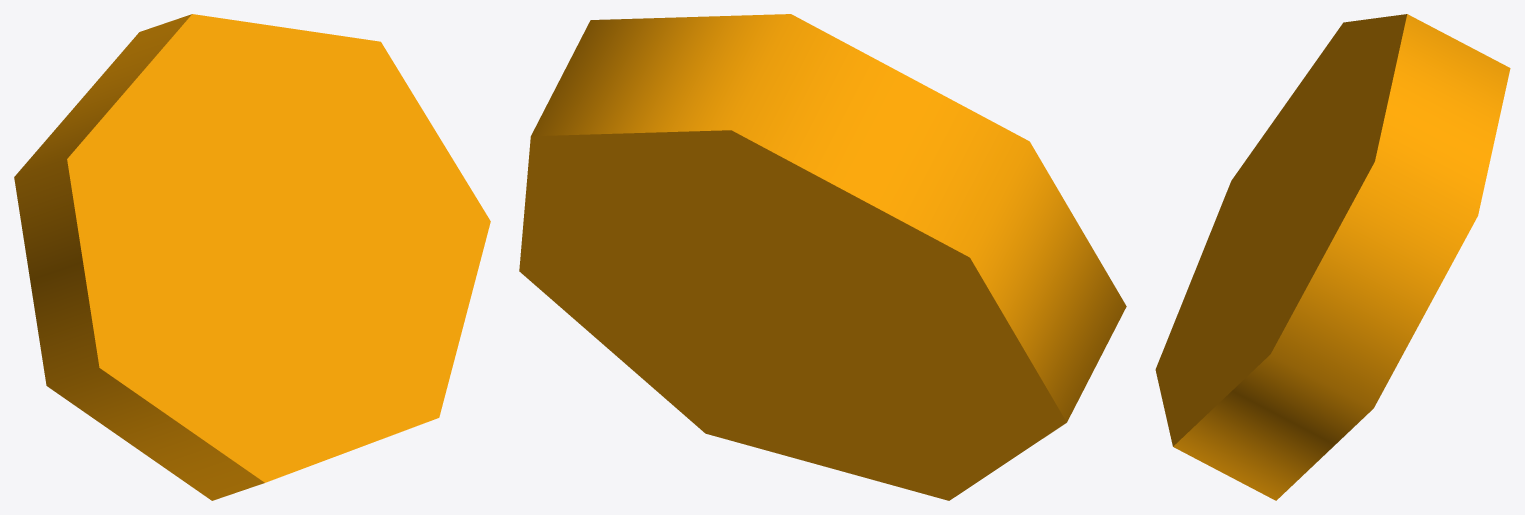
The model's file is Anim_Object_Coin.fbx.
3 renders of one model, left to right at view 1: azimuth 30°, elevation 25°; view 2: azimuth 150°, elevation 25°; view 3: azimuth 270°, elevation 25°, orthographic. The views are drawn at different scales.
Parts seen in each view (by area): view 1: Coin; view 2: Coin; view 3: Coin.
Part boxes in pixels (x1,y1,x2,y2): Coin: (14, 14, 490, 500); Coin: (519, 14, 1126, 500); Coin: (1155, 14, 1510, 500).
Bounding box in the file's own units: 19.06 × 18.58 × 13.71.
